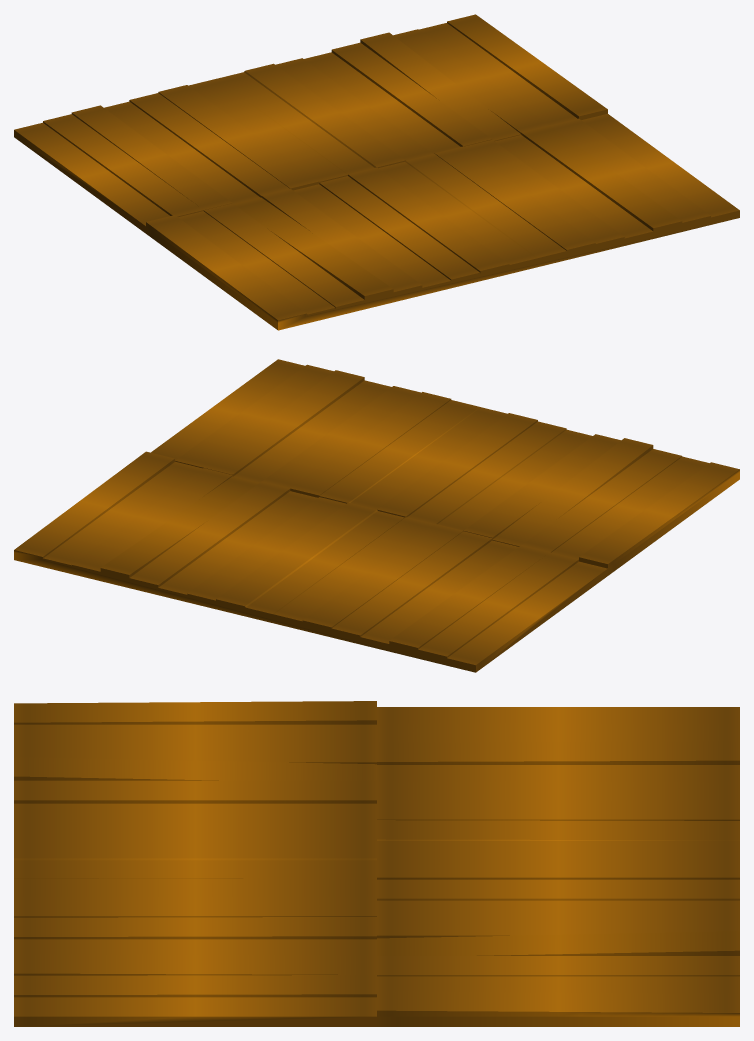
Rendered from WoodFloor2.fbx.
3 views of the same model, one above another, from view 1: azimuth 30°, elevation 25°; view 2: azimuth 150°, elevation 25°; view 3: azimuth 270°, elevation 25° (orthographic). The views are drawn at different scales.
Visible parts, largest first — view 1: wood_floor2; view 2: wood_floor2; view 3: wood_floor2.
Boxes of the visible parts, left/top/right/bottom form: wood_floor2: left=14, top=14, right=739, bottom=330; wood_floor2: left=14, top=359, right=739, bottom=672; wood_floor2: left=14, top=701, right=739, bottom=1026.
Size of the model in its own units: 492 by 13.48 by 488.
